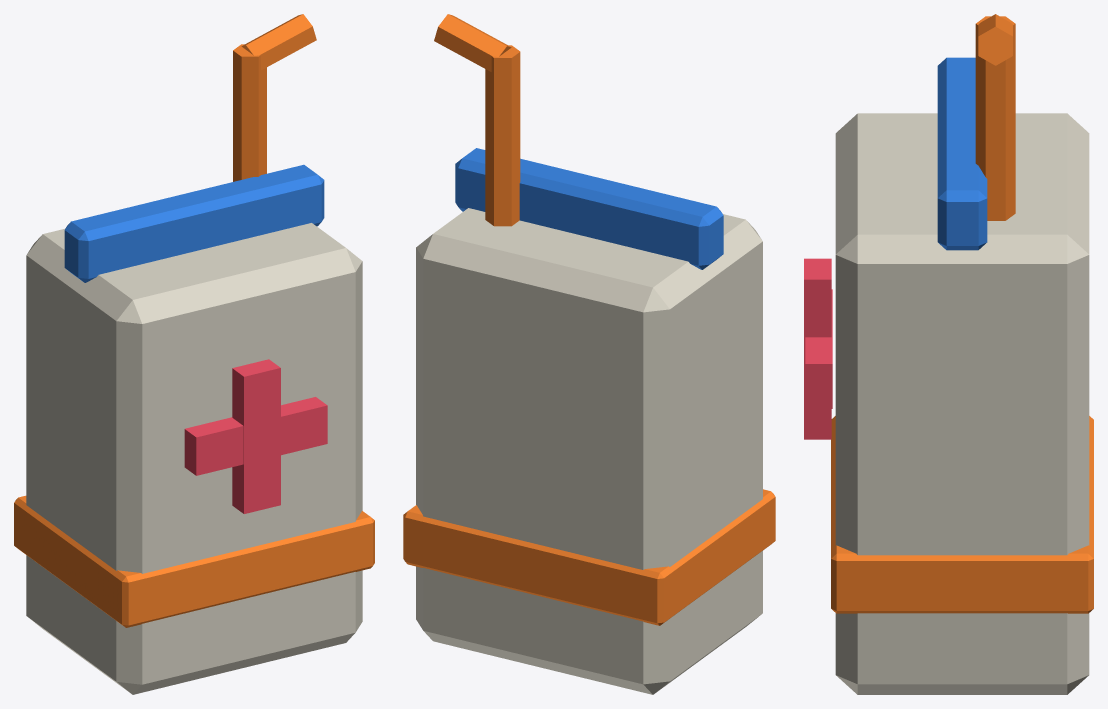
File: fps_health.glb
3 views of the same model, side by side, from view 1: azimuth 30°, elevation 25°; view 2: azimuth 150°, elevation 25°; view 3: azimuth 270°, elevation 25° (orthographic). The views are drawn at different scales.
Parts seen in each view (by area): view 1: Juice carton, detail_Tangerine, Carton seam, detail_Coral; view 2: Juice carton, detail_Tangerine, Carton seam; view 3: Juice carton, detail_Tangerine, Carton seam, detail_Coral.
Part boxes in pixels (x1,y1,x2,y2): Juice carton: (26,223,362,694); detail_Tangerine: (14,14,374,627); Carton seam: (64,164,324,282); detail_Coral: (184,359,327,513); Juice carton: (416,208,762,694); detail_Tangerine: (403,14,775,625); Carton seam: (455,148,723,269); Juice carton: (835,113,1089,694); detail_Tangerine: (831,14,1093,613); Carton seam: (937,57,987,250); detail_Coral: (804,258,832,439).
Bounding box in the file's own units: 0.3139 × 0.6773 × 0.2625.
